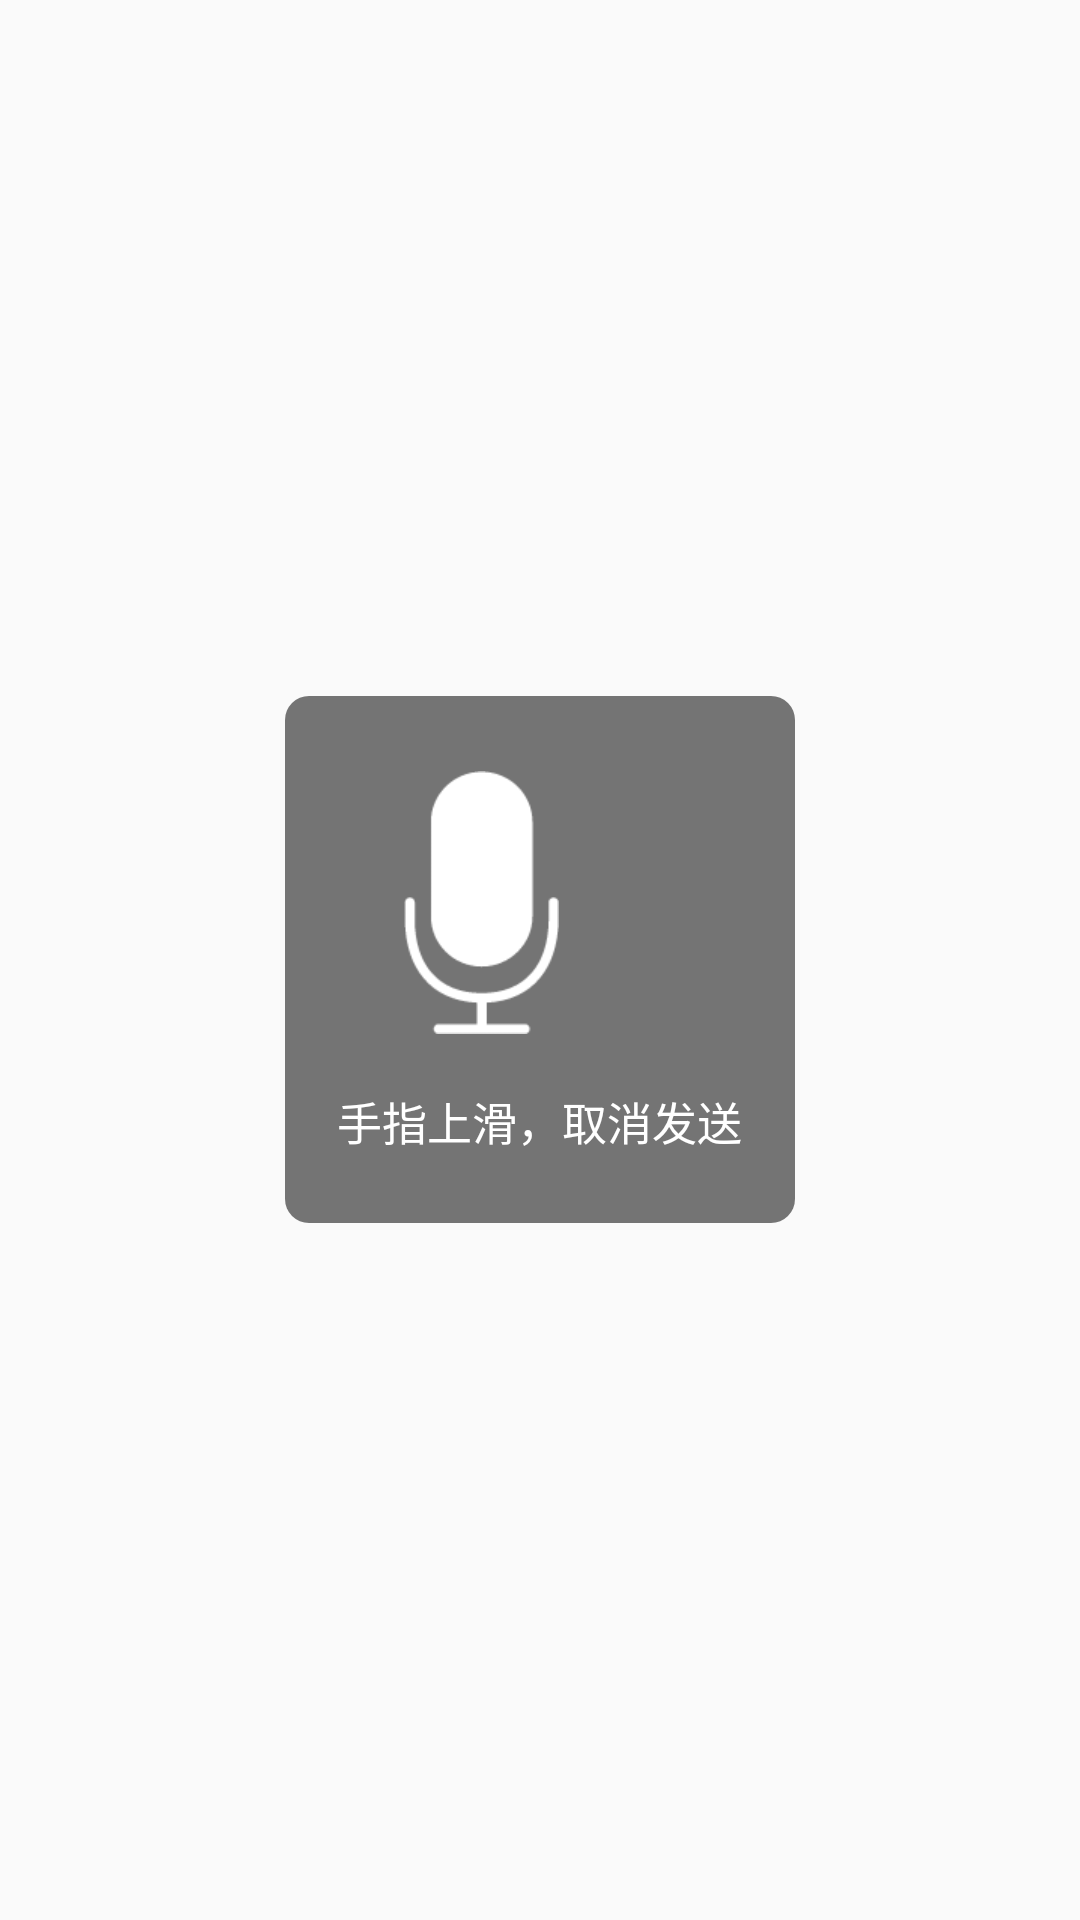

Icons on this 1080px×1920px Android screen, each with the point to tap as [x,y]:
microphone: [481,902]
